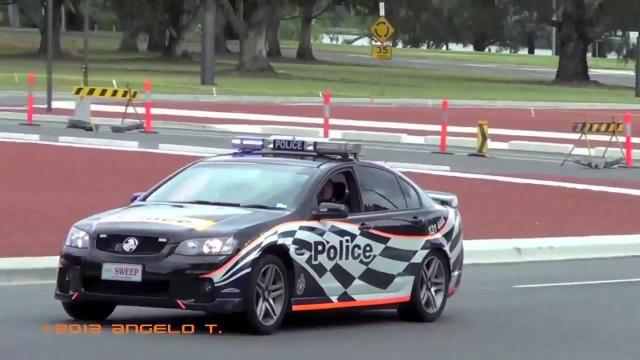police_car: (58, 134, 467, 316)
